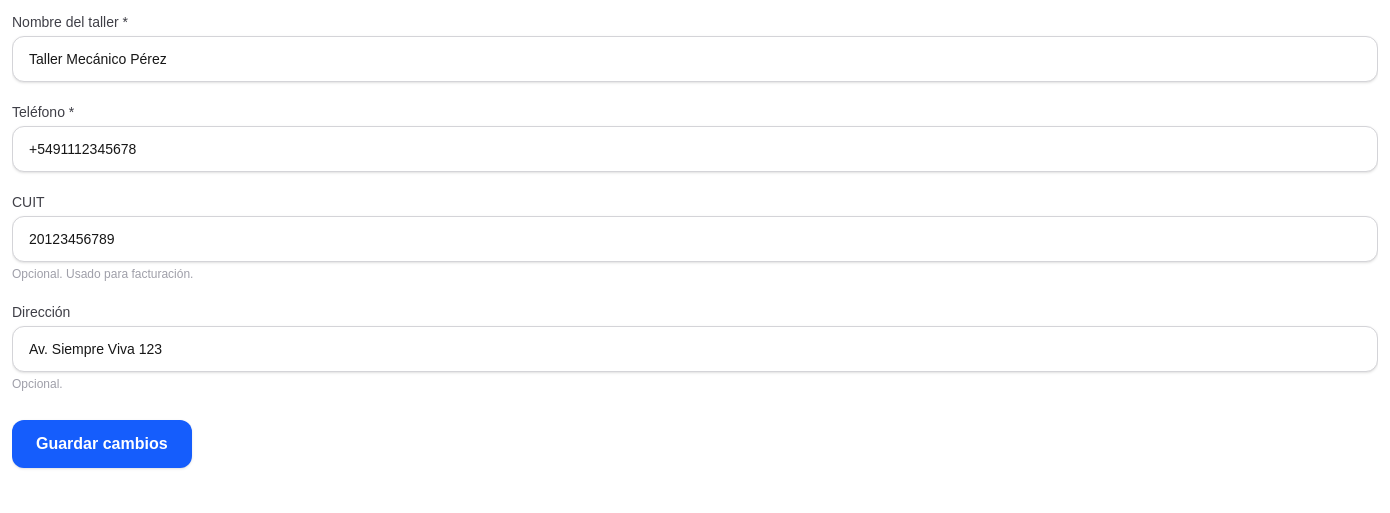
Test case: WorkshopForm › validation › shows error when phone is empty
Clear the field labelled "Teléfono *": x=695, y=149 [12,126,1378,172]
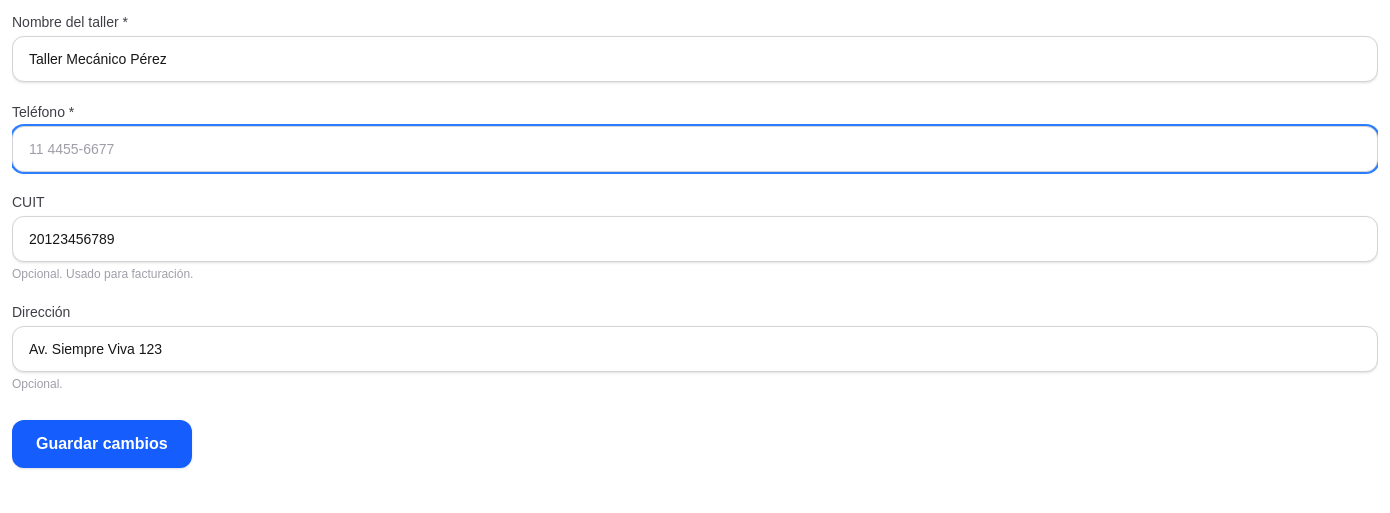
Click the button "Guardar cambios": x=102, y=444 [12,420,192,468]
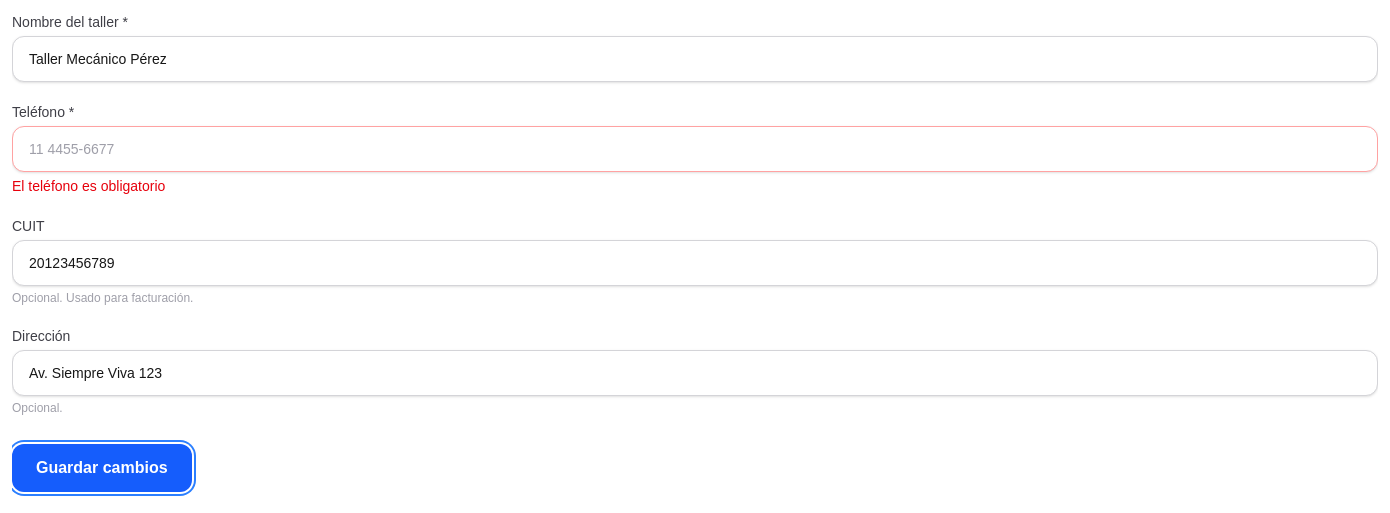
Check: the text "El teléfono es obligatorio" is shown, box [12,178,165,194]
